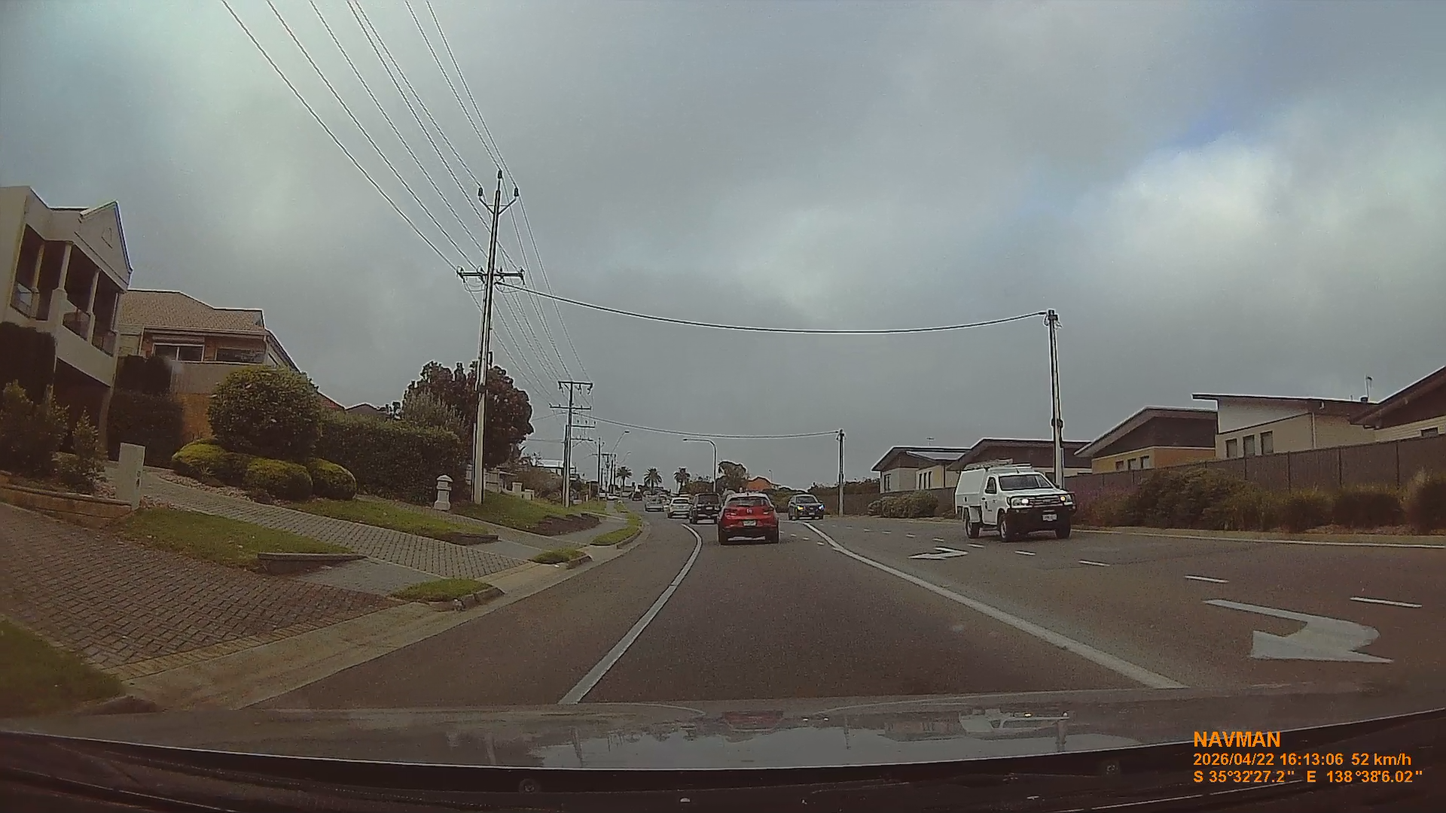fences: (1176, 437, 1445, 492)
